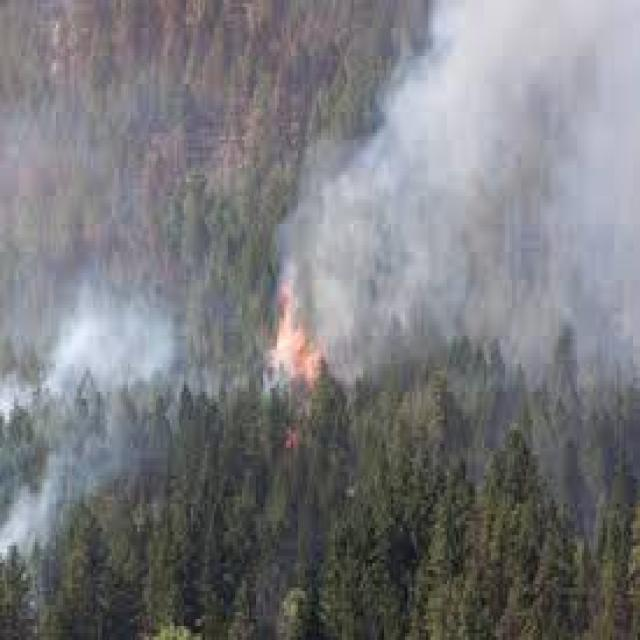Fire: (266, 263, 330, 418)
Smoke: (299, 0, 640, 375), (430, 20, 638, 336), (331, 117, 555, 347), (53, 280, 191, 423), (0, 459, 65, 560)
